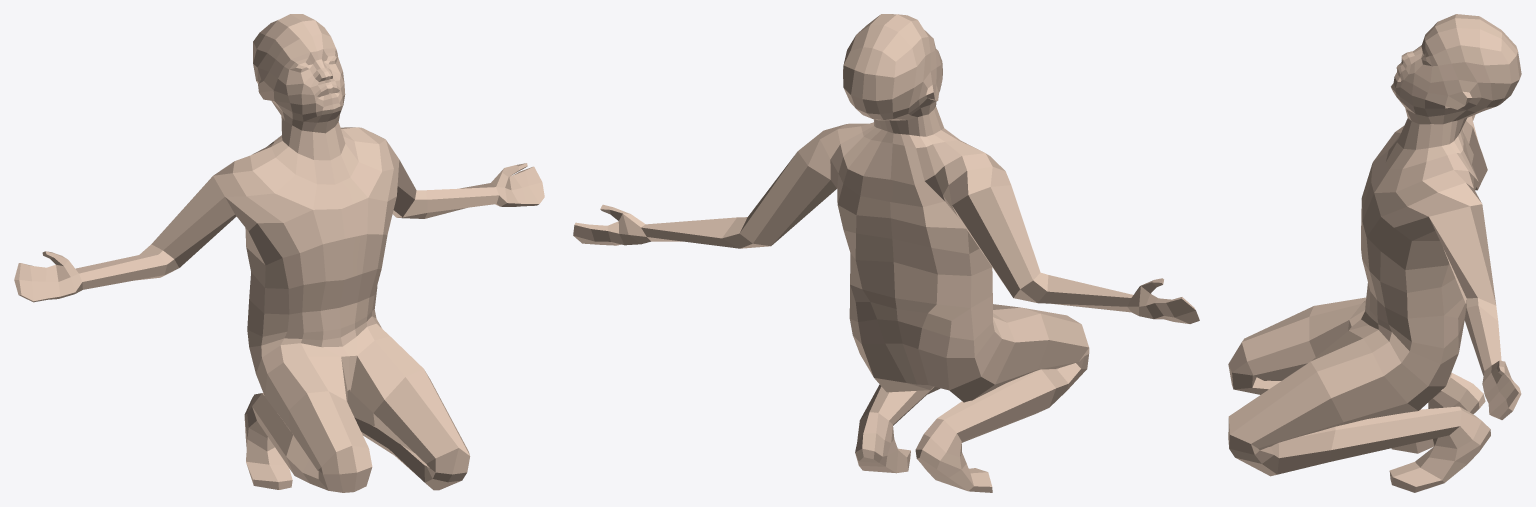
File: desperate.gltf
3 renders of one model, left to right at view 1: azimuth 30°, elevation 25°; view 2: azimuth 150°, elevation 25°; view 3: azimuth 270°, elevation 25°, orthographic. The views are drawn at different scales.
Visible parts, largest first — view 1: KidDesperate; view 2: KidDesperate; view 3: KidDesperate.
Part boxes in pixels (x1,y1,x2,y2): KidDesperate: (14,14,544,492); KidDesperate: (573,14,1199,492); KidDesperate: (1228,14,1521,492).
Bounding box in the file's own units: 1.51 × 1.14 × 0.6722.
